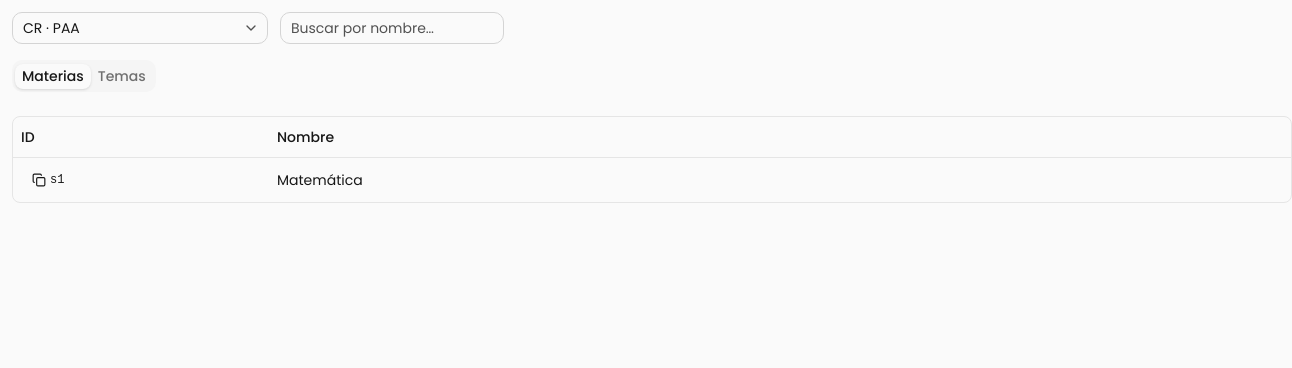
Test: IdsReference › muestra empty state cuando la búsqueda no matchea
The width and height of the screenshot is (1292, 368).
In the field labelled "Buscar por nombre": (392, 28) [280,12,504,44], type "zzz"
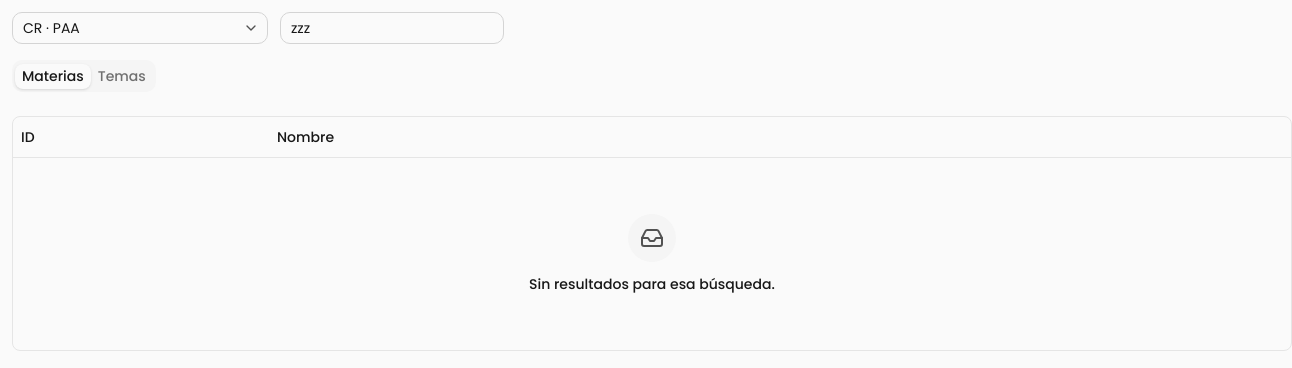
Expected: the text "Sin resultados para esa búsqueda." is shown, [529,274,775,294]
Expected: the text "Matemática" is gone
